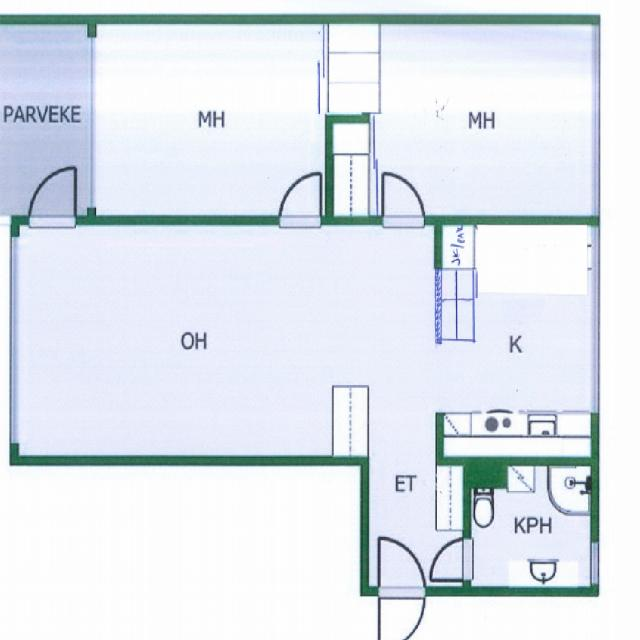door: (30, 163, 76, 226), (378, 535, 424, 597), (378, 588, 424, 640), (383, 170, 424, 226), (280, 172, 320, 225), (429, 540, 470, 580)
